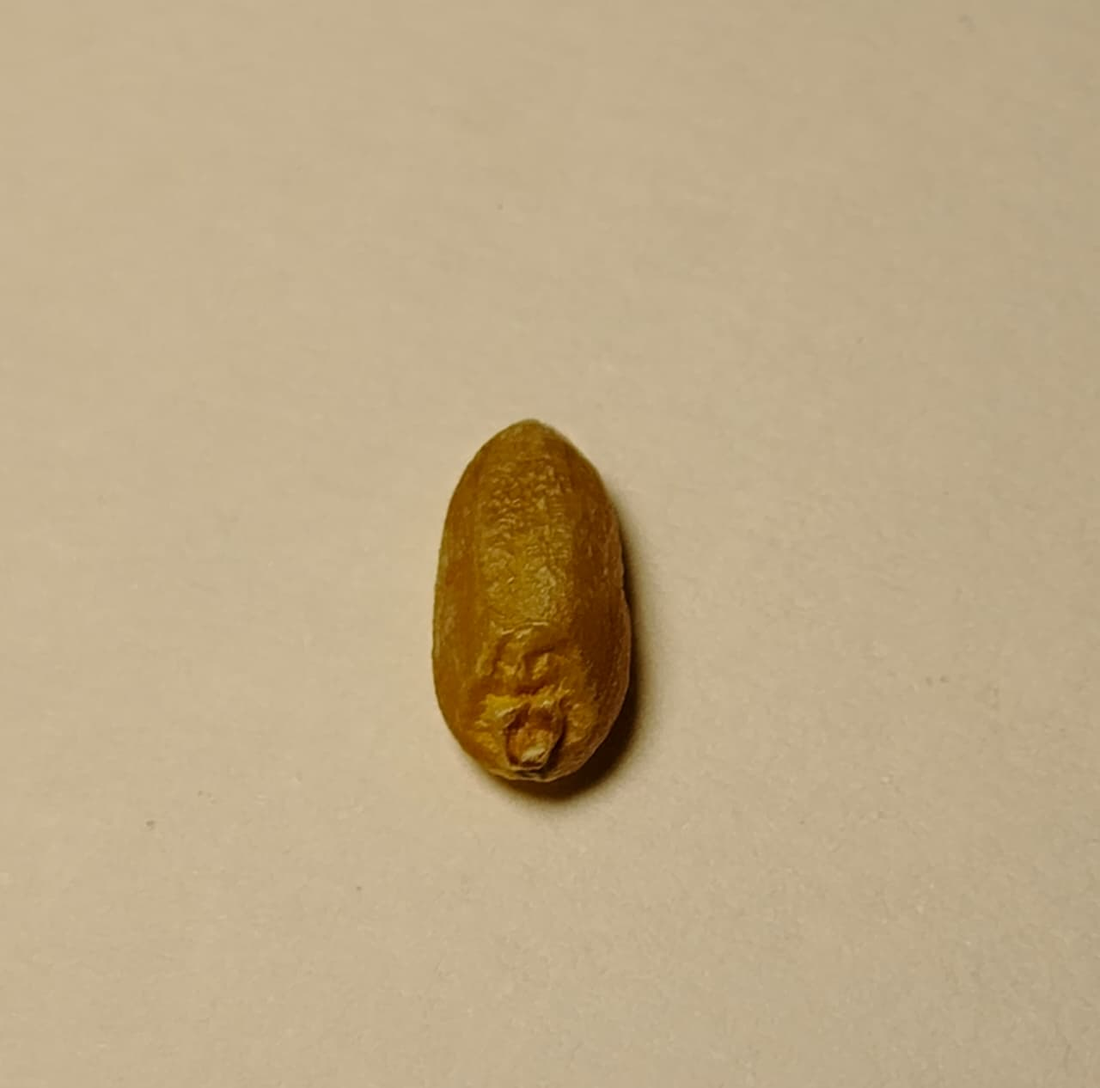healthy: (432, 418, 632, 782)
